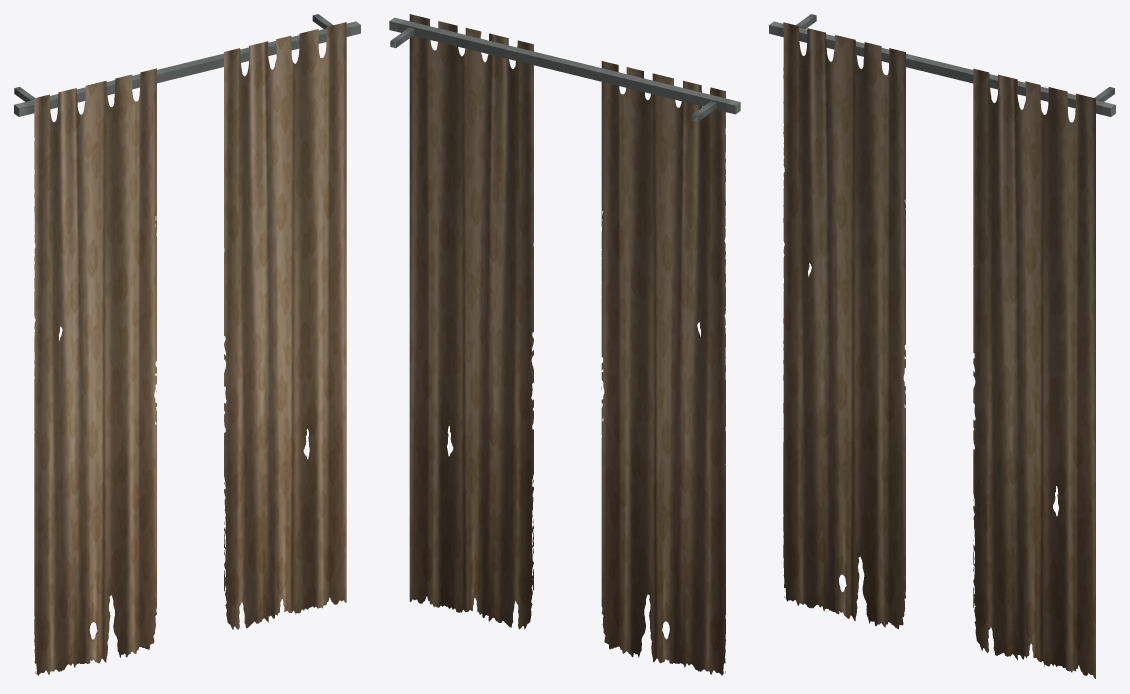
Rendered from Curtains.fbx.
3 renders of one model, left to right at view 1: azimuth 30°, elevation 25°; view 2: azimuth 150°, elevation 25°; view 3: azimuth 330°, elevation 25°, orthographic.
Visible parts, largest first — view 1: Curtains; view 2: Curtains; view 3: Curtains.
Boxes of the visible parts, x1,y1,x2,y2 form: Curtains: [14, 14, 360, 675]; Curtains: [389, 14, 740, 675]; Curtains: [769, 14, 1115, 678].
Size of the model in its own units: 133 by 217 by 16.06.
